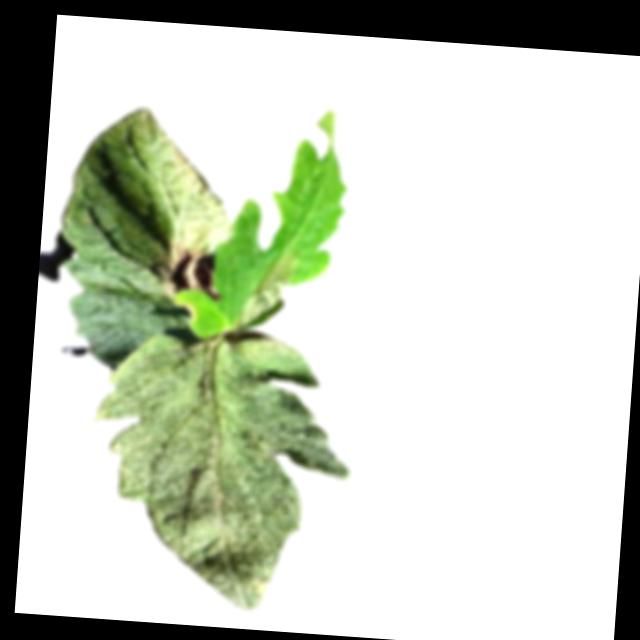Late_blight: (228, 250, 294, 331), (157, 240, 226, 301)
healthy: (80, 320, 358, 618)
